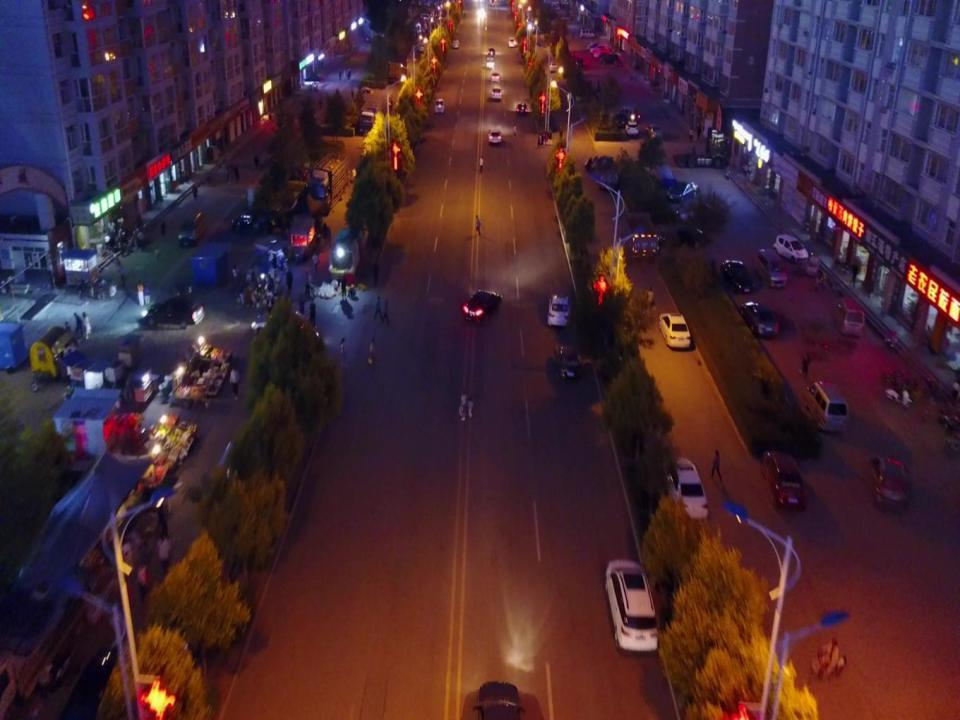car: (602, 557, 659, 655), (759, 448, 810, 513), (667, 453, 709, 520), (872, 450, 908, 515), (473, 679, 522, 718), (139, 298, 205, 326), (752, 247, 788, 290), (657, 310, 692, 353), (741, 300, 779, 337), (552, 342, 582, 386), (463, 290, 504, 322), (722, 257, 752, 296), (774, 232, 809, 264), (178, 209, 207, 245), (808, 655, 848, 681), (546, 292, 568, 329), (667, 179, 699, 200), (646, 121, 664, 142), (485, 127, 502, 146), (624, 120, 638, 136), (433, 97, 445, 114), (514, 100, 529, 113), (598, 54, 619, 63), (592, 43, 609, 53), (490, 86, 502, 100), (592, 49, 612, 57), (191, 184, 199, 202), (588, 40, 604, 49), (490, 70, 500, 84), (484, 55, 494, 67), (508, 36, 517, 48), (452, 38, 460, 50), (488, 46, 496, 57), (352, 166, 356, 182)
truck: (306, 147, 348, 217), (361, 97, 383, 136)
van: (803, 377, 849, 432), (834, 294, 865, 338), (619, 104, 640, 125), (580, 28, 594, 38)
